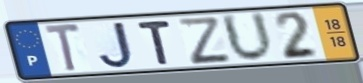2: (272, 10, 321, 61)
J: (97, 20, 137, 71)
T: (42, 22, 83, 75), (134, 19, 174, 67)
U: (218, 10, 277, 64)
Z: (174, 15, 234, 66)
